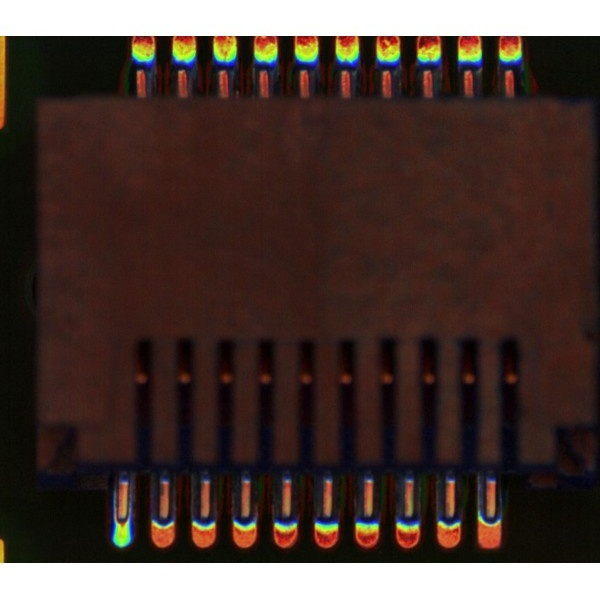Bad_qiaojiao: (128, 484, 133, 517), (113, 481, 117, 519)
